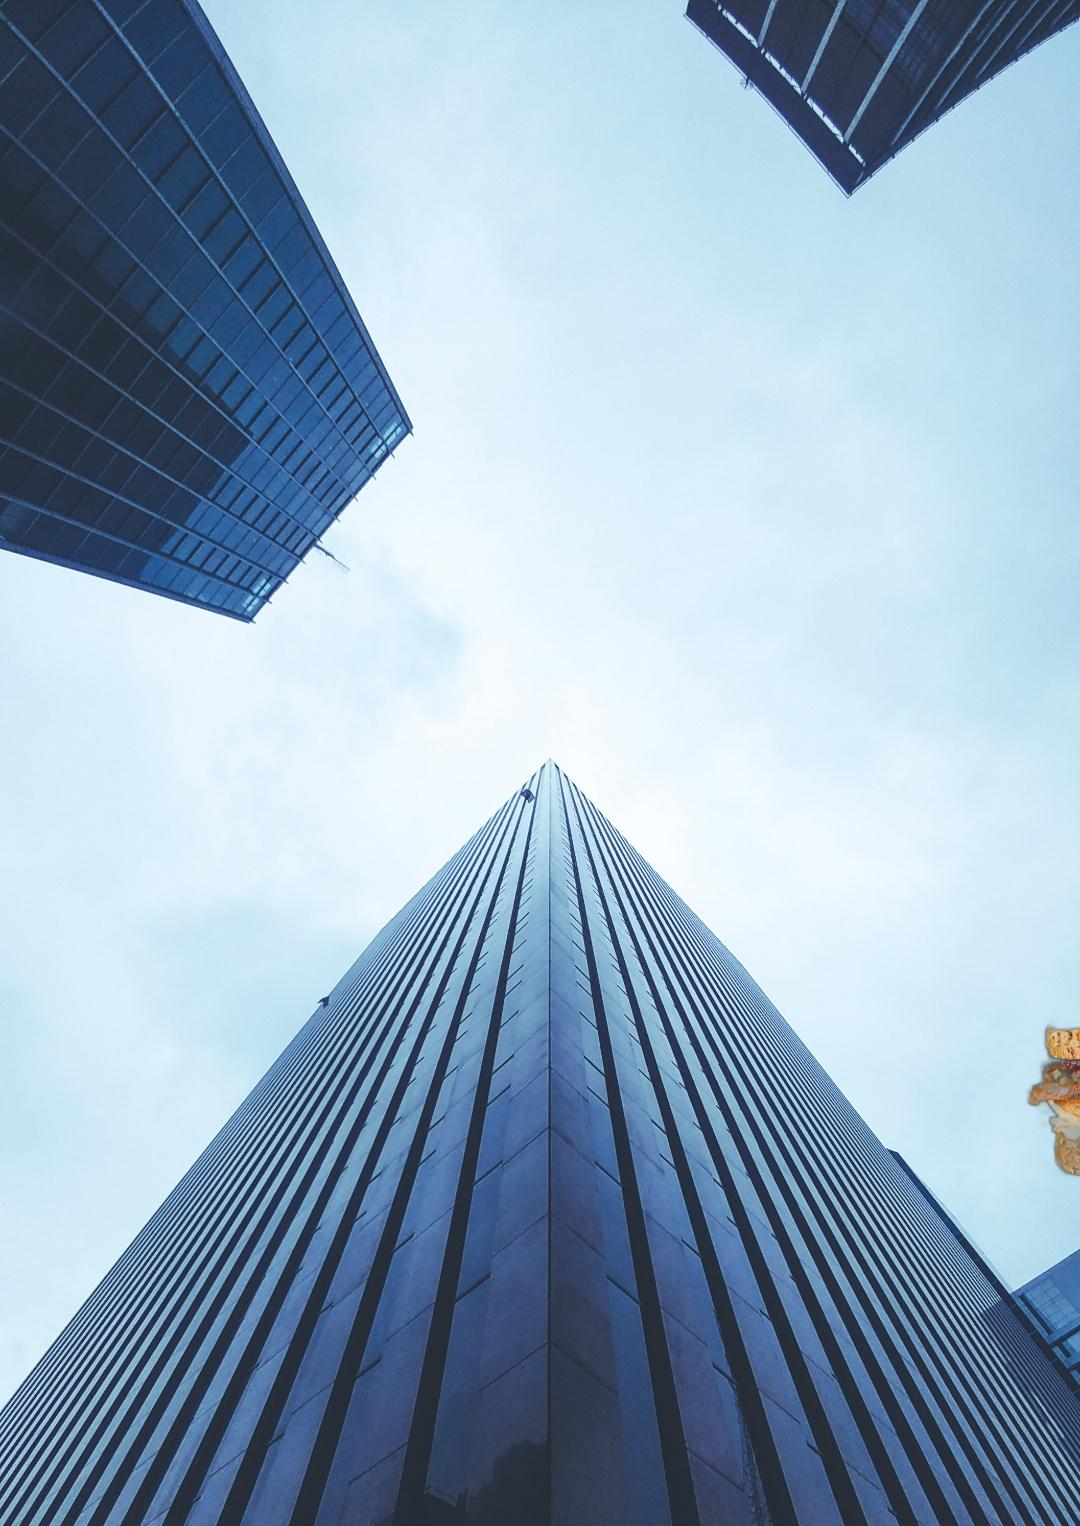biological: (1015, 996, 1080, 1179)
